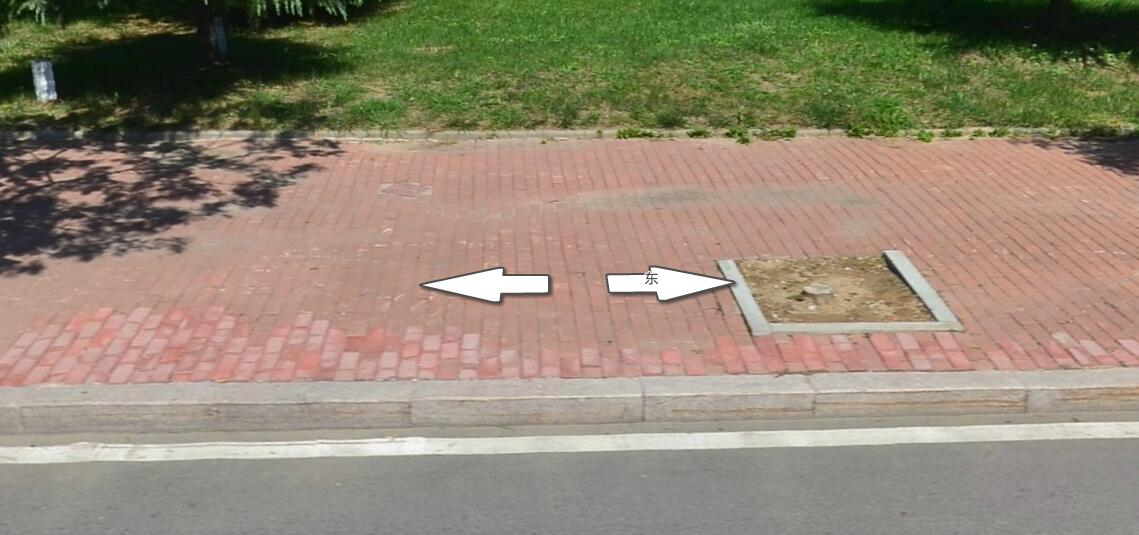side: (411, 379, 644, 424), (814, 371, 1027, 420), (24, 381, 216, 433), (215, 382, 410, 426), (645, 377, 815, 423)
